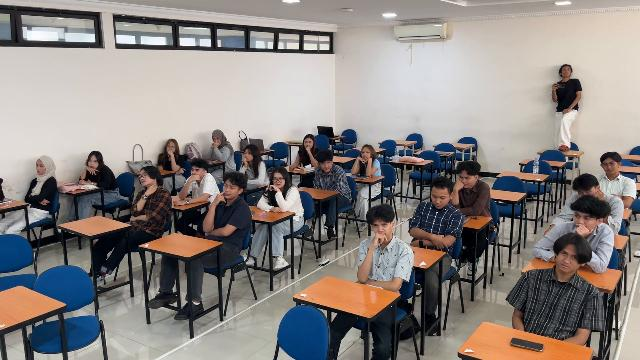bingung: (558, 247, 579, 272), (573, 210, 590, 228), (373, 222, 392, 236), (431, 192, 446, 208), (223, 182, 238, 197), (602, 160, 618, 174), (459, 173, 473, 187), (138, 171, 151, 185), (273, 173, 285, 187), (191, 166, 203, 178), (243, 149, 254, 161), (320, 161, 332, 172), (36, 161, 46, 174), (88, 156, 98, 169), (304, 137, 314, 148), (361, 148, 371, 159), (167, 142, 175, 152), (213, 136, 221, 145)
